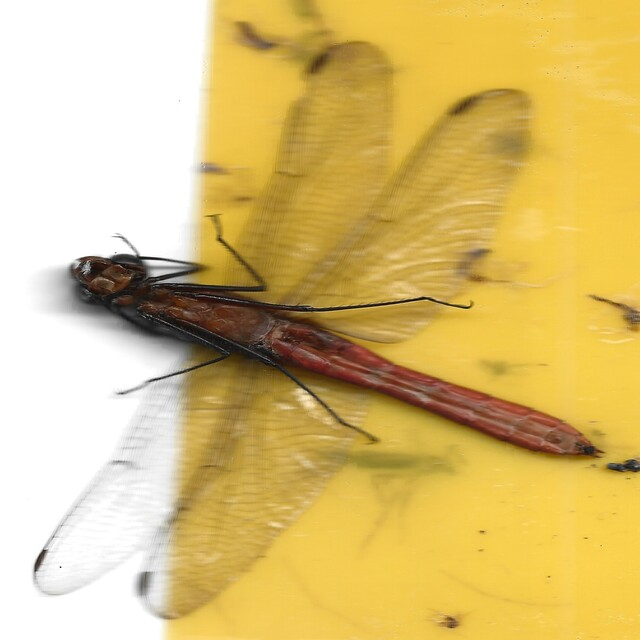Nematocera: (221, 20, 285, 54)
Odonata: (32, 39, 608, 620)
